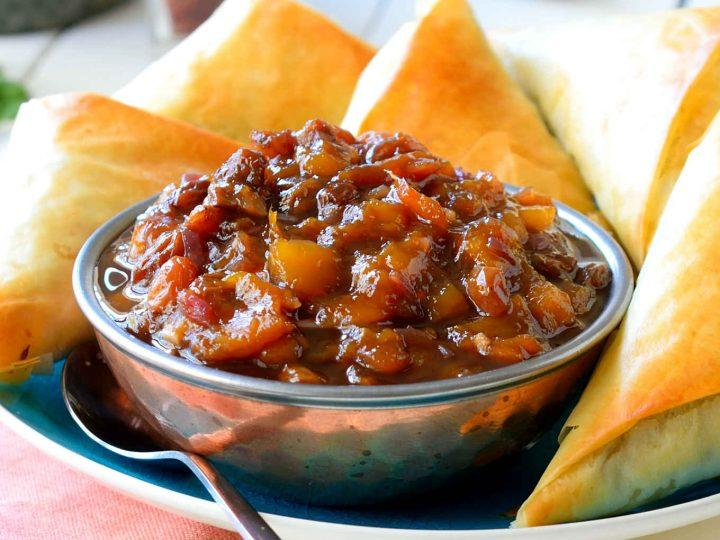samosa: (0, 93, 238, 382), (139, 3, 373, 119)
